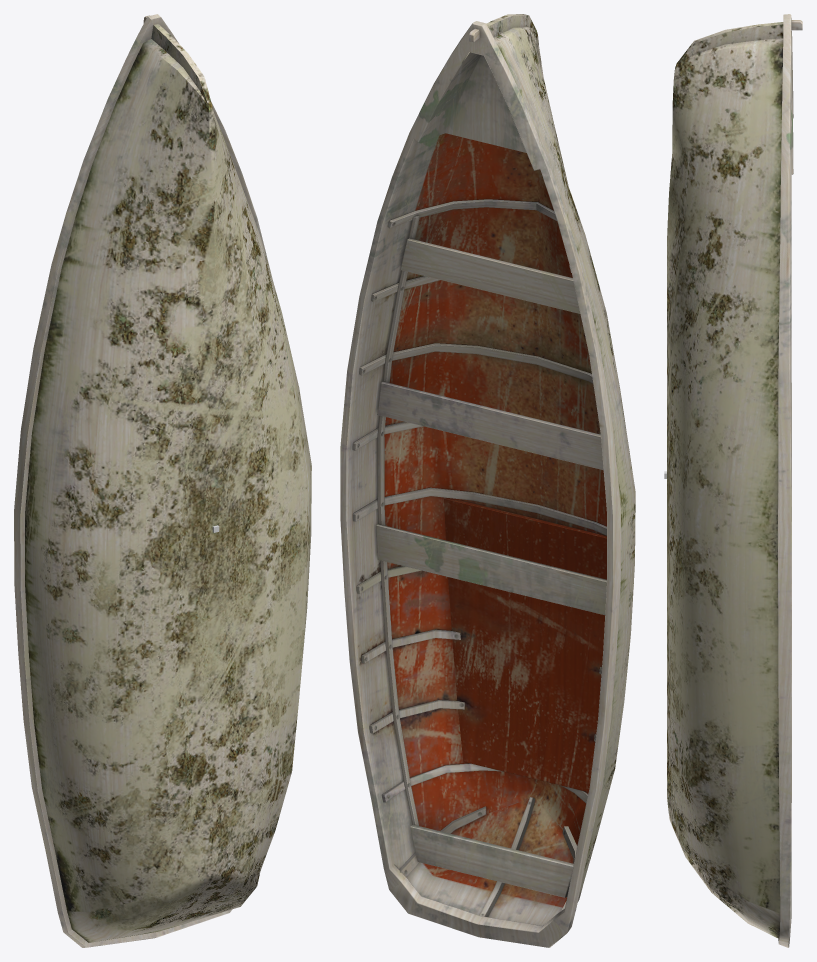
The model's file is boat.glb.
3 views of the same model, side by side, from view 1: azimuth 30°, elevation 25°; view 2: azimuth 150°, elevation 25°; view 3: azimuth 270°, elevation 25° (orthographic).
Visible parts, largest first — view 1: Object_2; view 2: Object_2; view 3: Object_2.
Part boxes in pixels (x1,y1,x2,y2): Object_2: [14, 14, 311, 947]; Object_2: [340, 14, 635, 947]; Object_2: [667, 14, 802, 947].
Bounding box in the file's own units: 106 × 339 × 46.92.
2 materials, 1 textured.
